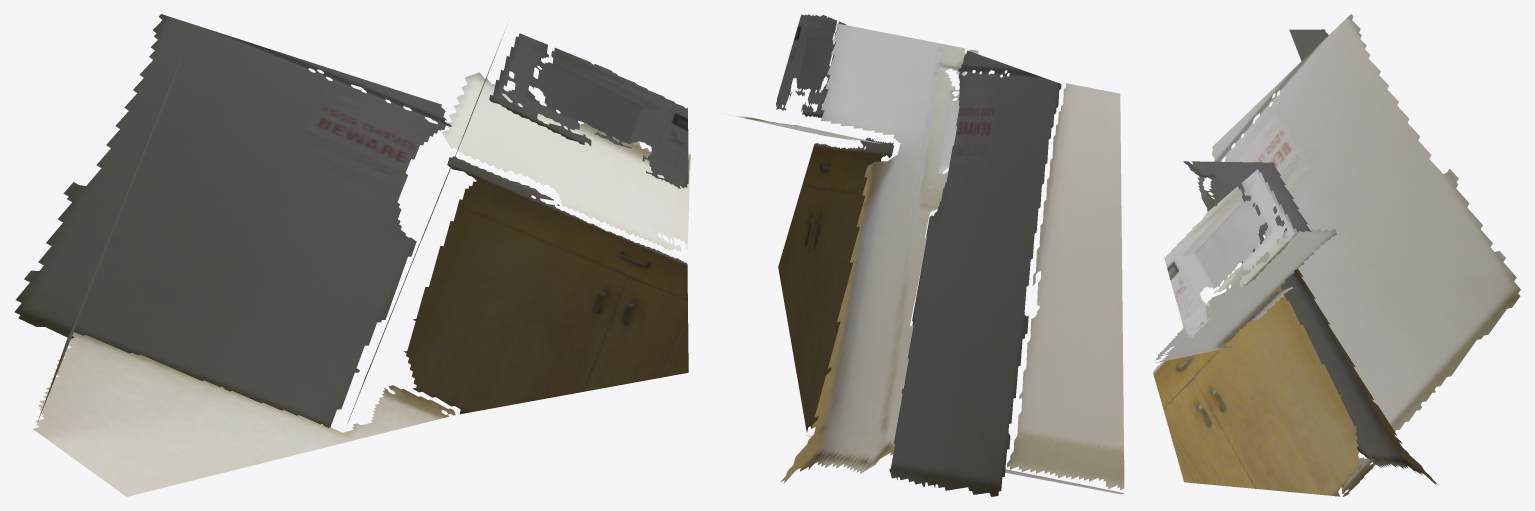
The model's file is 516_d2_depth_GTplane_gt_model.glb.
The picture shows the model from 3 angles, left to right: view 1: azimuth 30°, elevation 25°; view 2: azimuth 150°, elevation 25°; view 3: azimuth 270°, elevation 25°; orthographic projection. The views are drawn at different scales.
Size of the model in its own units: 1.74 by 1.41 by 1.26.
